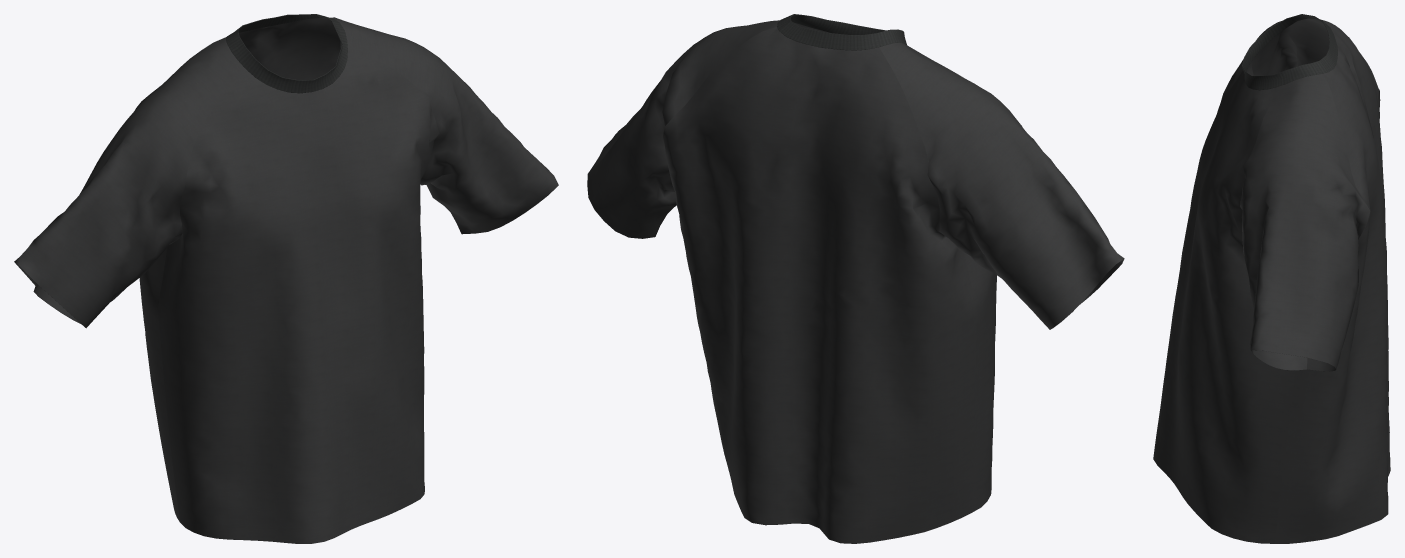
The picture shows the model from 3 angles, left to right: view 1: azimuth 30°, elevation 25°; view 2: azimuth 150°, elevation 25°; view 3: azimuth 270°, elevation 25°; orthographic projection. The views are drawn at different scales.
Visible parts, largest first — view 1: 3_Node, 5_Node, 1_Node, 2_Node, 4_Node; view 2: 2_Node, 5_Node, 1_Node, 3_Node, 4_Node; view 3: 3_Node, 1_Node, 2_Node, 5_Node, 4_Node.
Part boxes in pixels (bbox=[...]): 3_Node: bbox=[158, 50, 439, 543]; 5_Node: bbox=[14, 37, 246, 328]; 1_Node: bbox=[330, 17, 558, 234]; 2_Node: bbox=[139, 18, 340, 521]; 4_Node: bbox=[226, 14, 347, 93]; 2_Node: bbox=[663, 27, 976, 543]; 5_Node: bbox=[879, 42, 1124, 329]; 1_Node: bbox=[587, 20, 802, 238]; 3_Node: bbox=[799, 25, 996, 512]; 4_Node: bbox=[777, 14, 906, 50]; 3_Node: bbox=[1153, 59, 1295, 543]; 1_Node: bbox=[1240, 74, 1370, 371]; 2_Node: bbox=[1274, 21, 1390, 543]; 5_Node: bbox=[1247, 18, 1329, 75]; 4_Node: bbox=[1241, 14, 1337, 90].
Size of the model in its own units: 0.3082 by 0.2665 by 0.1248.
Materials: 2 (2 with a texture image).
